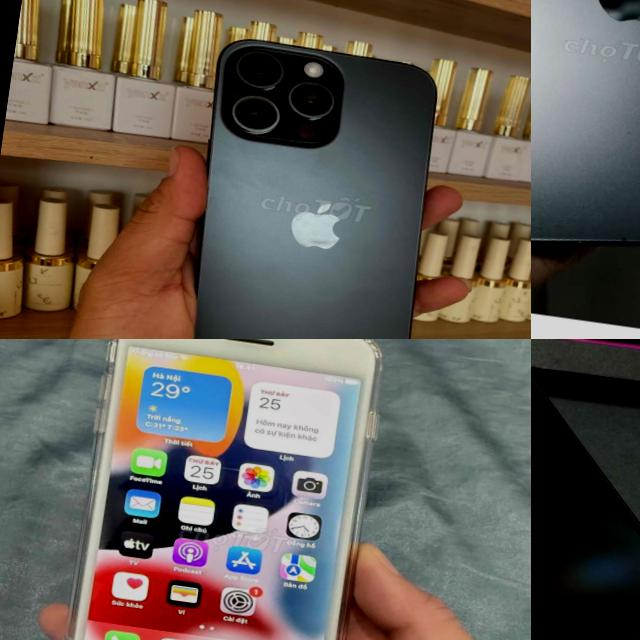gen_12_13: (531, 0, 640, 288)
gen_15: (531, 339, 640, 640)
gen_16: (163, 16, 455, 339)
gen_7_8: (64, 339, 380, 640)
scratch: (531, 618, 640, 640)
